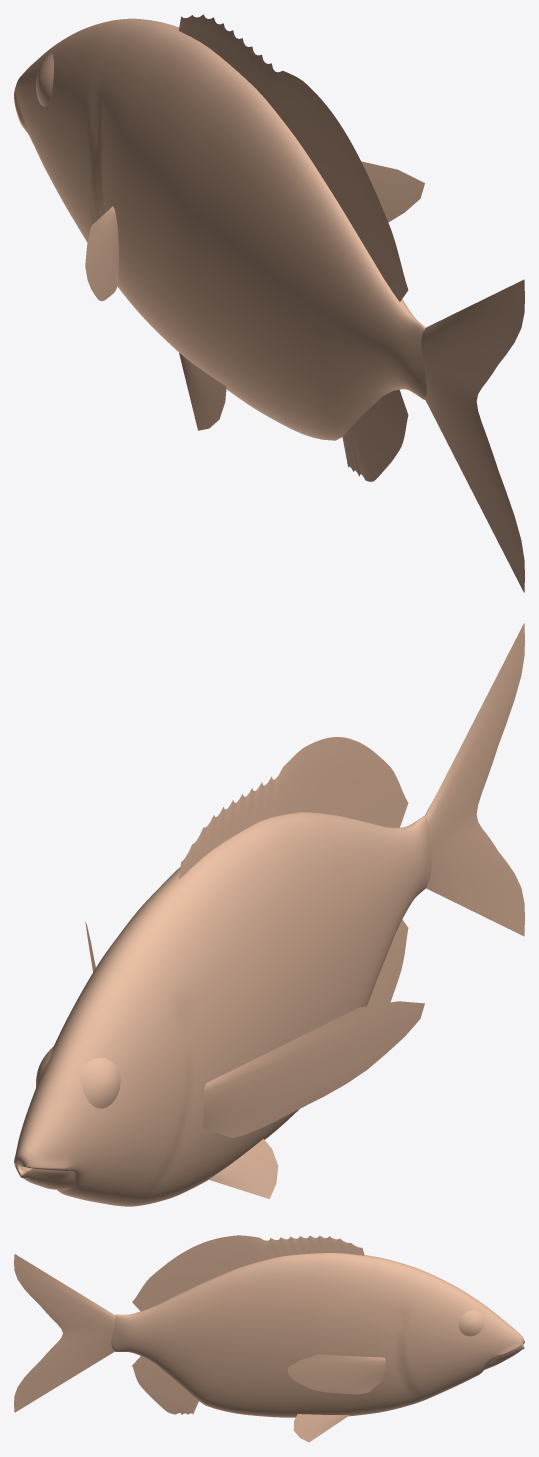
The model's file is surfperch.glb.
The picture shows the model from 3 angles, top to bottom: view 1: azimuth 30°, elevation 25°; view 2: azimuth 150°, elevation 25°; view 3: azimuth 270°, elevation 25°; orthographic projection. The views are drawn at different scales.
Visible parts, largest first — view 1: surfperch; view 2: surfperch; view 3: surfperch.
Boxes of the visible parts, x1=… form: surfperch: x1=14, y1=14, x2=524, y2=592; surfperch: x1=14, y1=623, x2=524, y2=1206; surfperch: x1=14, y1=1235, x2=524, y2=1442.
Size of the model in its own units: 0.1169 by 0.1287 by 0.3003.
